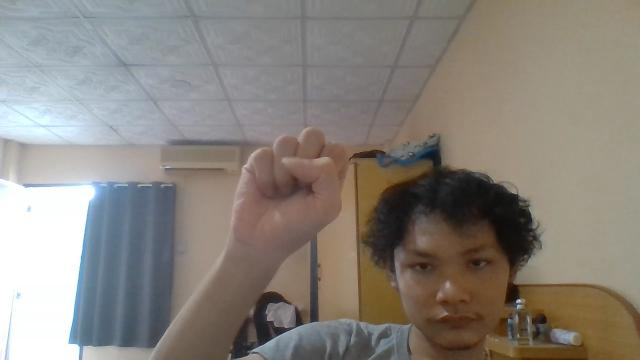forward: (227, 126, 349, 264)
